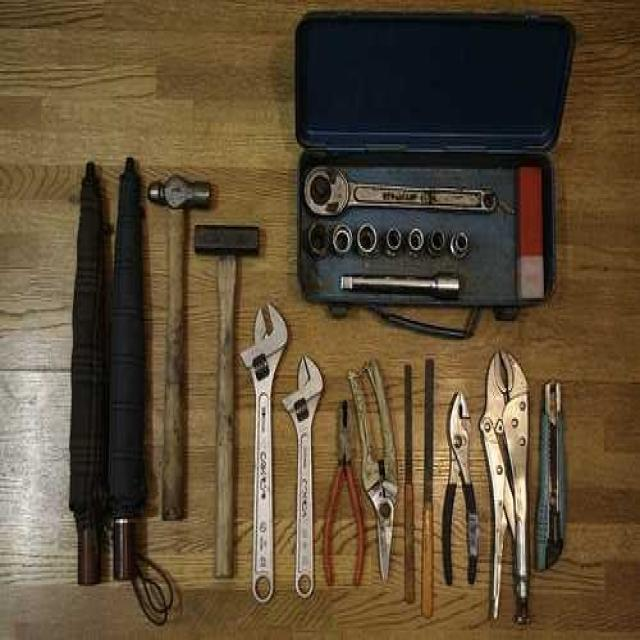hammer: (186, 216, 268, 579)
